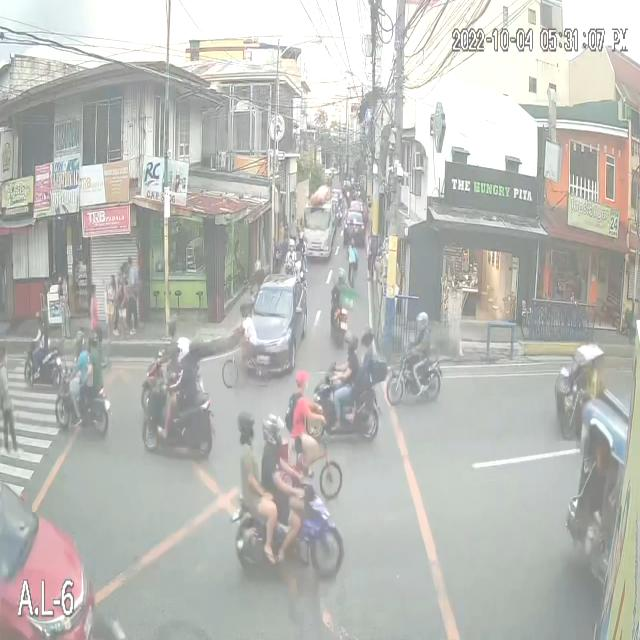Full-Faced: (232, 409, 256, 446), (258, 409, 282, 444), (359, 321, 378, 354), (344, 330, 360, 362), (176, 333, 191, 362), (414, 312, 431, 334), (74, 331, 87, 356), (88, 335, 101, 358), (286, 239, 298, 263), (30, 312, 46, 328), (336, 267, 346, 287), (166, 318, 179, 331), (298, 229, 306, 248)
Half-Faced: (348, 237, 354, 246)
Not-Wearing-Helmet: (292, 369, 312, 395)
